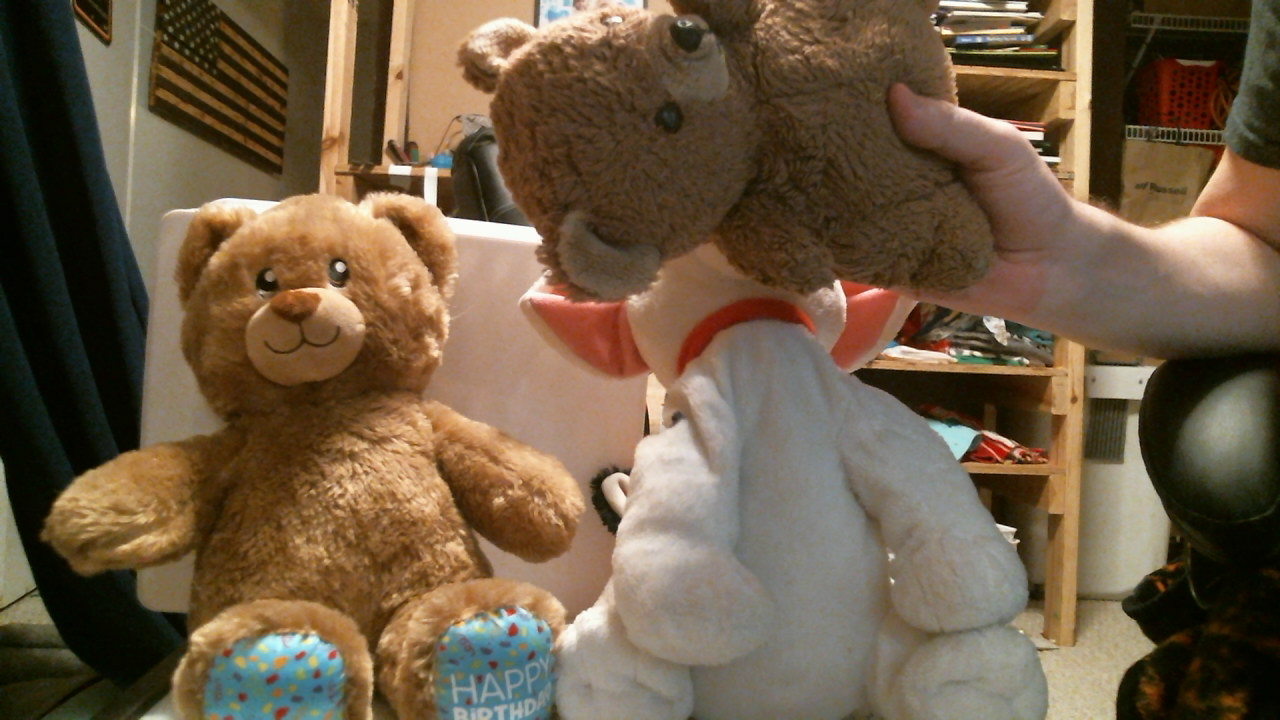Little_Mister_Bear: (580, 19, 773, 185)
